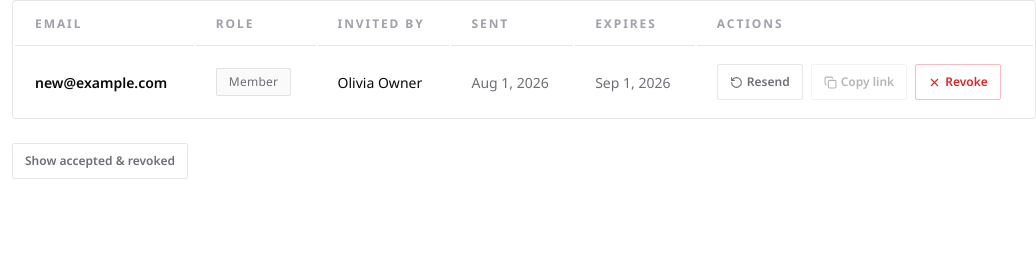
Test: InvitationsPanel › loads the accepted/revoked history when the toggle is opened
Click the button "Show accepted & revoked" at point(100, 161), box [12, 143, 188, 179]
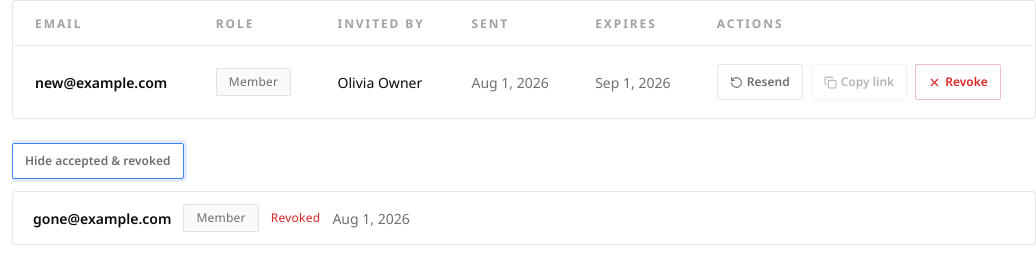
Check: the text "gone@example.com" is shown, box [33, 208, 171, 228]
